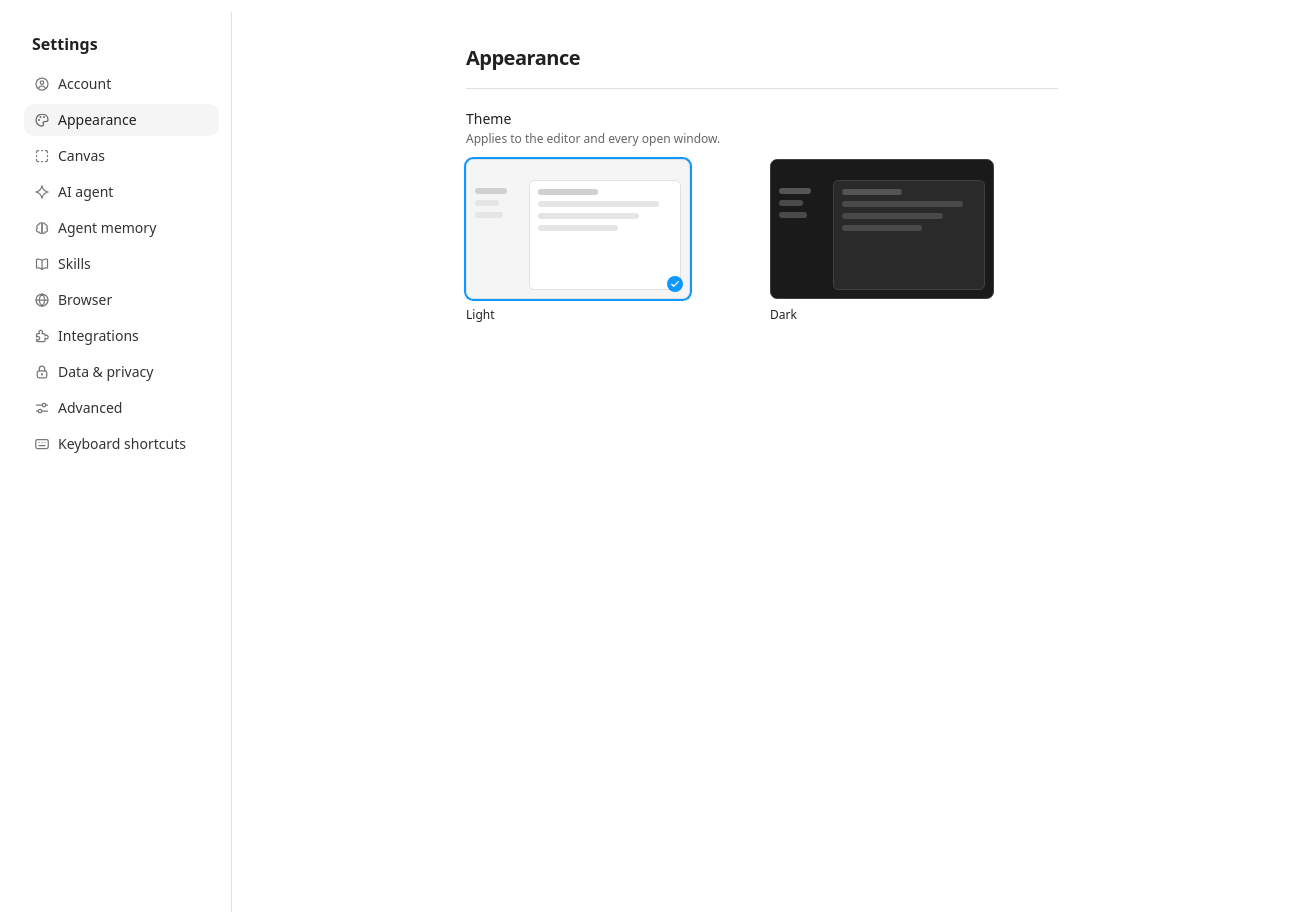
Scenario: <SettingsPage /> › switching the nav updates ?section= and keeps other params
The image size is (1292, 912).
What coordinates should you click on to do the following:
click the button "Canvas"
I would click on:
 (122, 156)
Its box is [24,140,219,172].
(page scrolled)
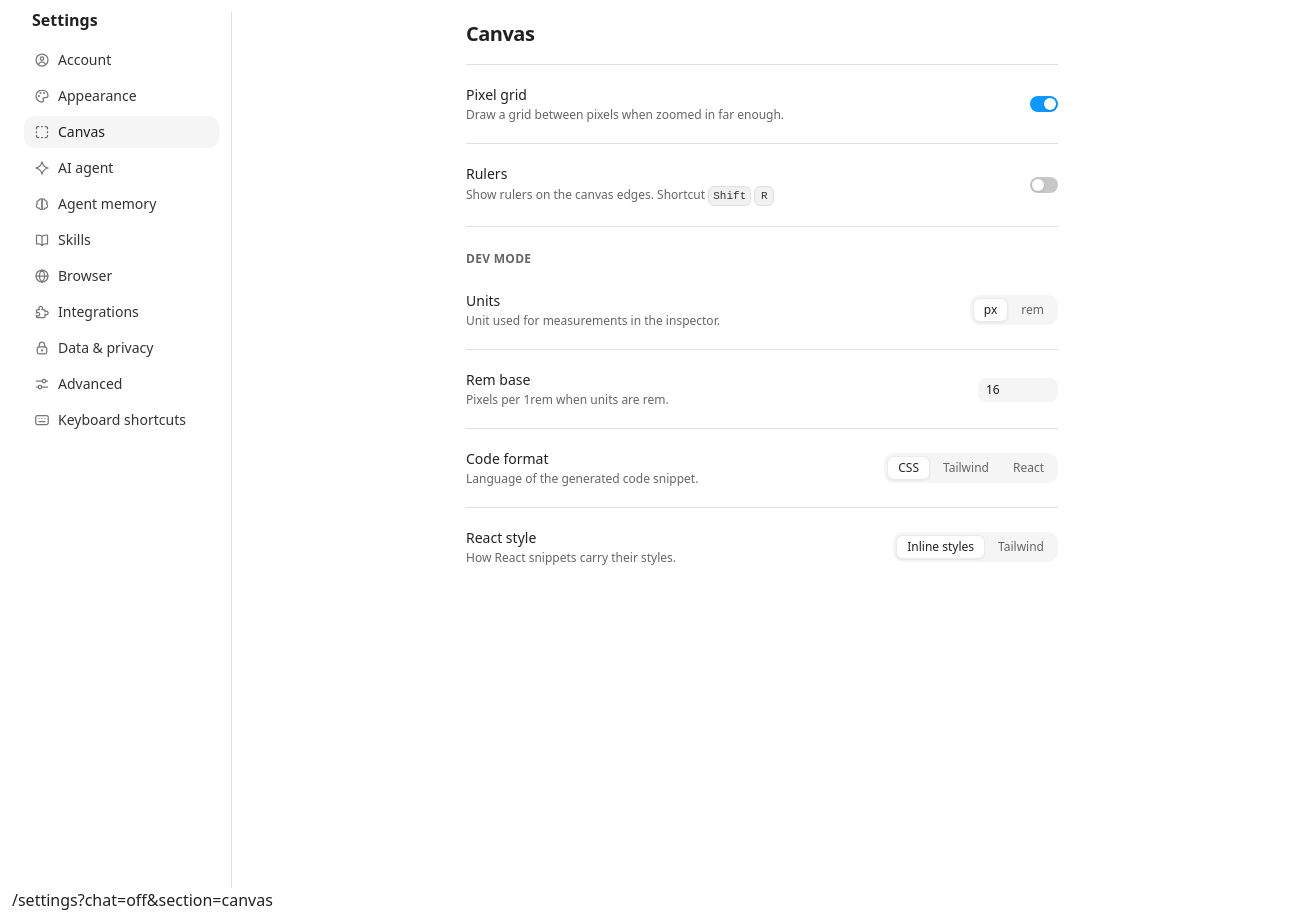
Expected: the heading "Canvas" is shown, [466,20,534,48]
Expected: the text with test id "where" shows "section=canvas", [12,889,273,911]
Expected: the text with test id "where" shows "chat=off", [12,889,273,911]
